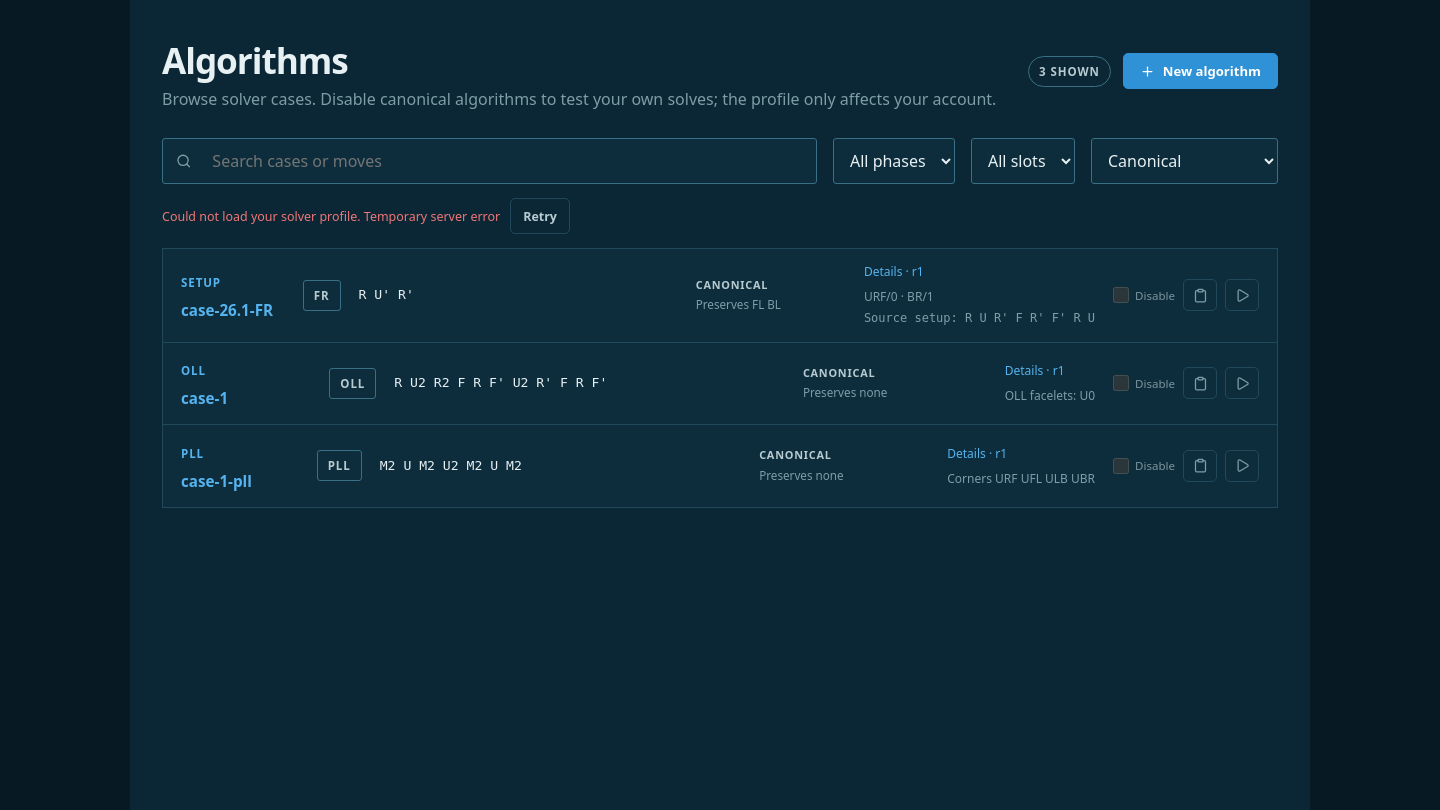
Scenario: AlgorithmsView › retries a failed profile load
Expected: the message shows "Could not load your solver profile.", [162, 208, 364, 224]
Step 1. Click the button "Retry" → (540, 216), box [510, 198, 570, 234]
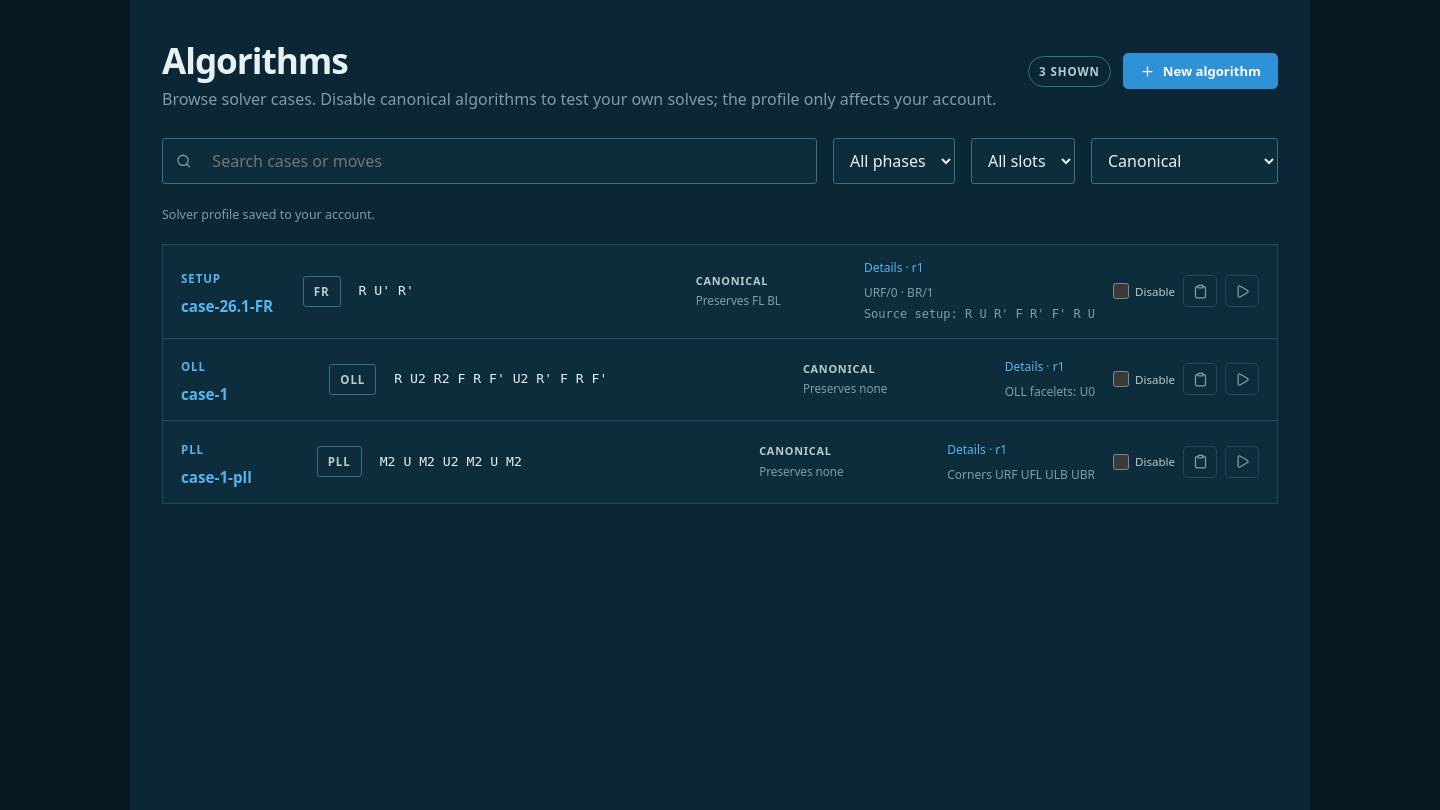
Expected: the checkbox named "Disable case-26.1-FR for my solver" is enabled, [1113, 283, 1129, 299]
